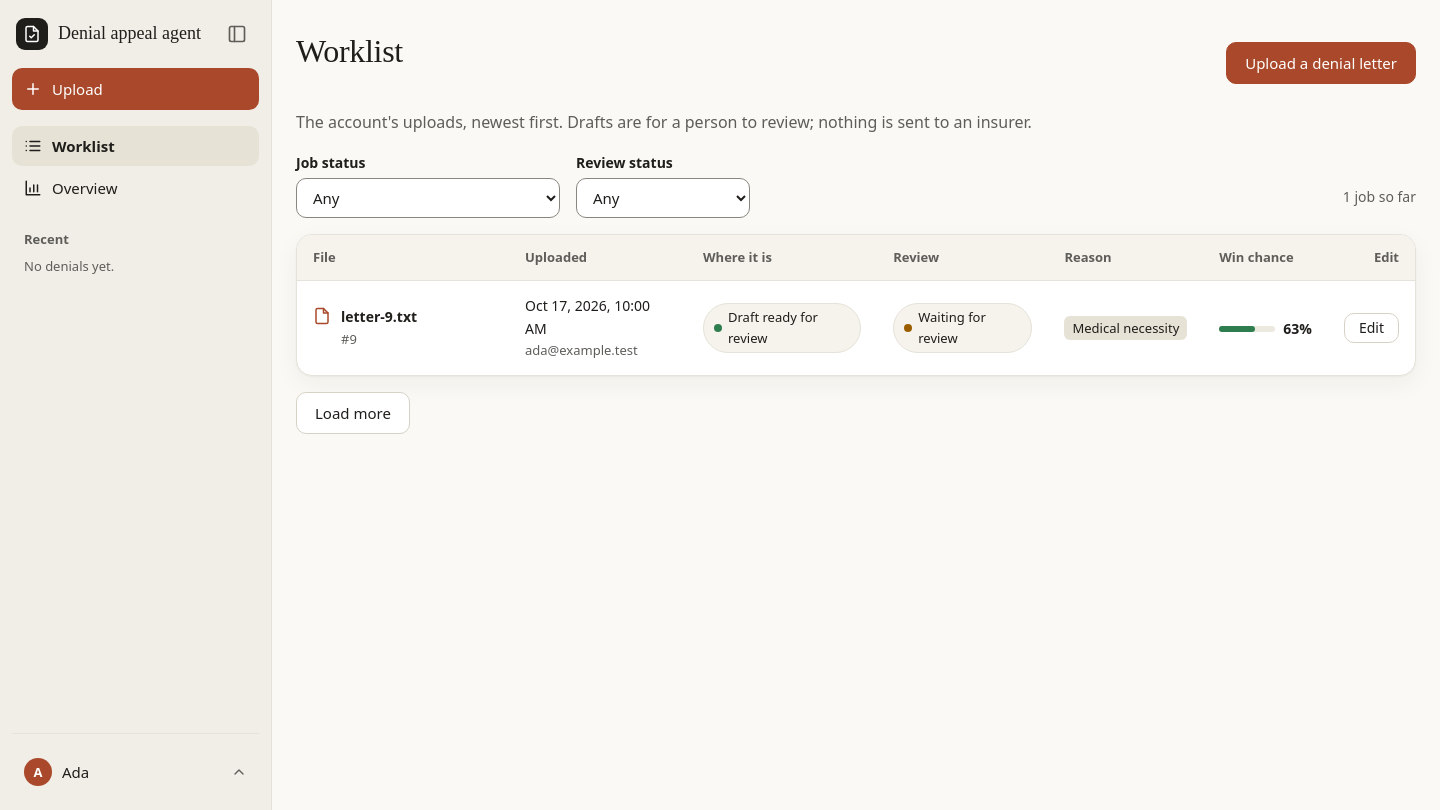
WorklistScreen › loads the older jobs when asked
Click the button "Load more": click(353, 413) top-left (296, 392), bottom-right (410, 434)
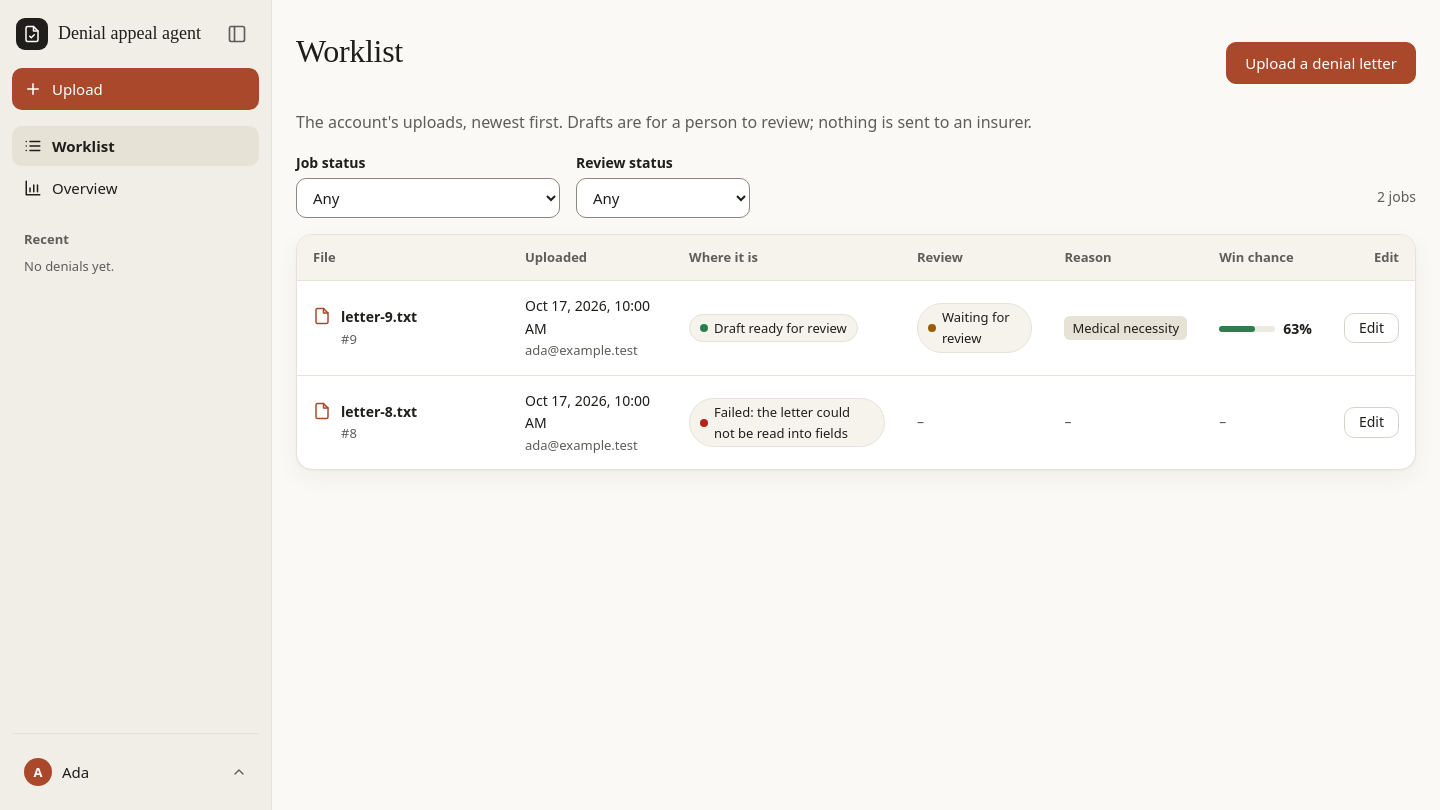
Check: the text "letter-9.txt" is shown, box top-left (341, 307), bottom-right (417, 326)
Check: the text "letter-8.txt" is shown, box top-left (341, 402), bottom-right (417, 421)
Check: the button "Load more" is gone
